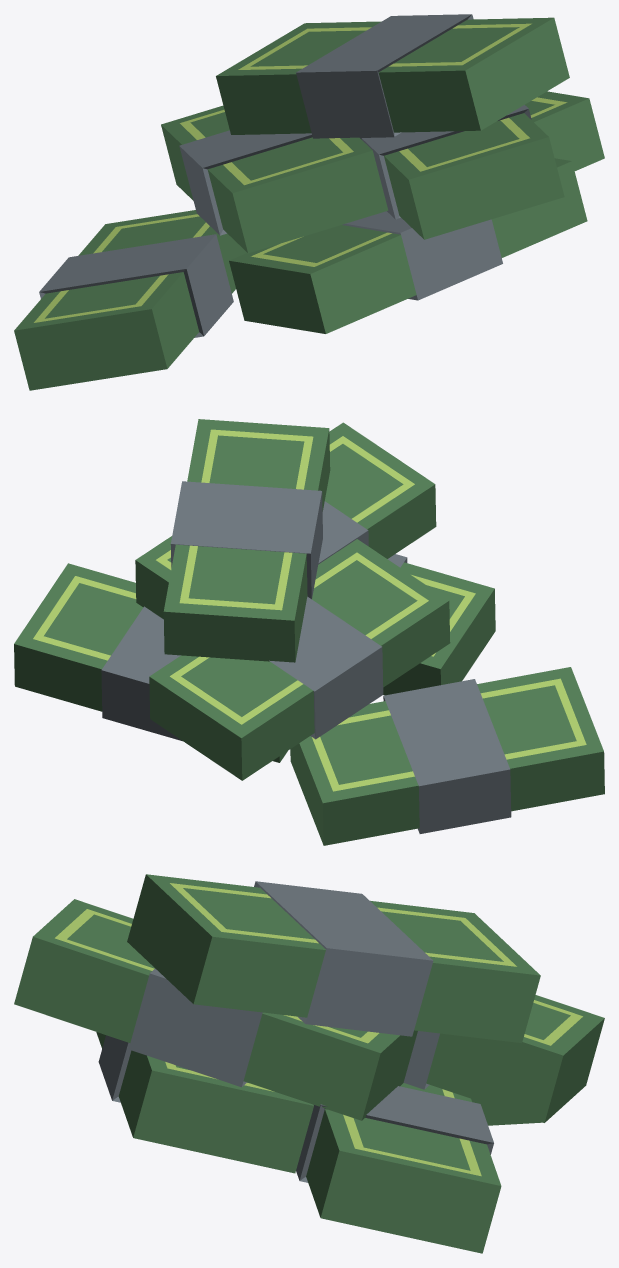
Rendered from AncientPaper.fbx.
3 views of the same model, one above another, from view 1: azimuth 30°, elevation 25°; view 2: azimuth 150°, elevation 25°; view 3: azimuth 270°, elevation 25° (orthographic). The views are drawn at different scales.
Parts seen in each view (by area): view 1: AncientPaper; view 2: AncientPaper; view 3: AncientPaper.
Boxes of the visible parts, x1,y1,x2,y2 form: AncientPaper: (14, 14, 604, 390); AncientPaper: (14, 419, 604, 845); AncientPaper: (14, 874, 604, 1253).
Bounding box in the file's own units: 144 × 69.91 × 108.
